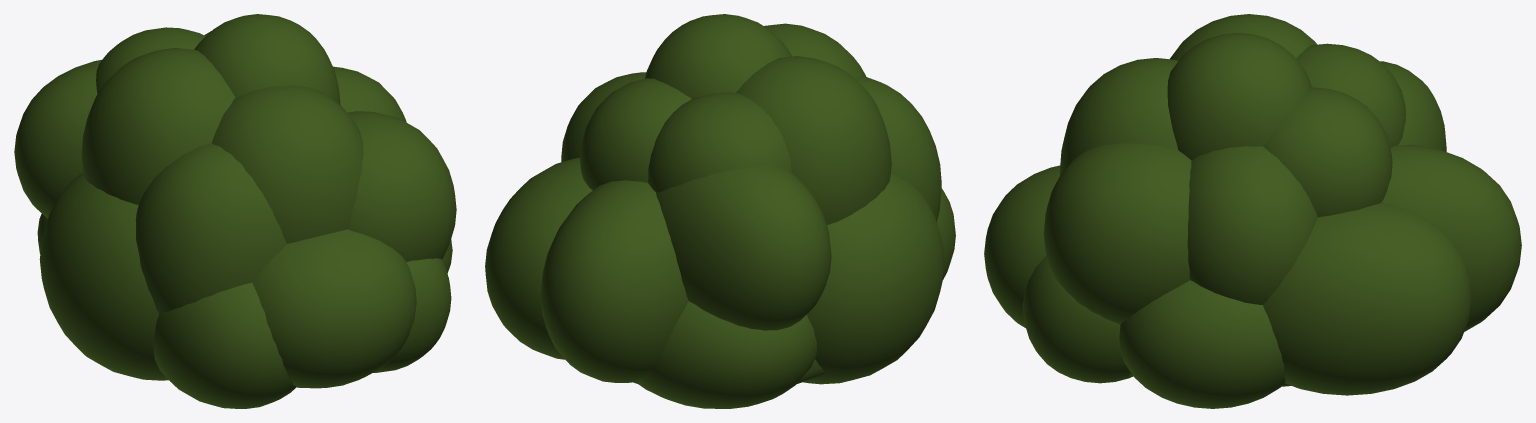
File: Busch.fbx
The picture shows the model from 3 angles, left to right: view 1: azimuth 30°, elevation 25°; view 2: azimuth 150°, elevation 25°; view 3: azimuth 270°, elevation 25°; orthographic projection. The views are drawn at different scales.
Visible parts, largest first — view 1: Busch; view 2: Busch; view 3: Busch.
Part boxes in pixels (x1,y1,x2,y2): Busch: (14, 14, 456, 408); Busch: (485, 14, 955, 408); Busch: (984, 14, 1521, 408).
Size of the model in its own units: 447 by 374 by 557.
